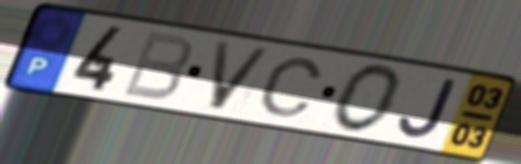4: (67, 24, 127, 93)
B: (118, 29, 196, 103)
C: (255, 55, 327, 118)
J: (396, 76, 461, 140)
O: (328, 61, 407, 136)
V: (207, 39, 276, 113)
